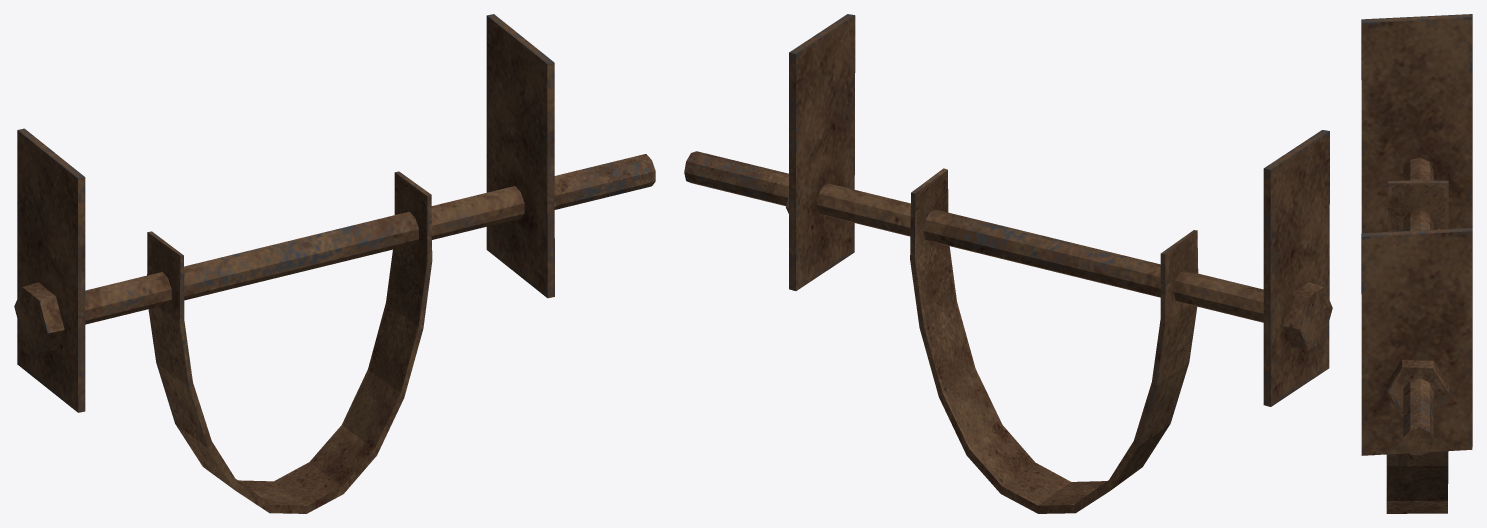
File: ZhuangZhongUp.fbx
The picture shows the model from 3 angles, left to right: view 1: azimuth 30°, elevation 25°; view 2: azimuth 150°, elevation 25°; view 3: azimuth 270°, elevation 25°; orthographic projection. The views are drawn at different scales.
Parts seen in each view (by area): view 1: 3D_ZhuangZhongUp.mo; view 2: 3D_ZhuangZhongUp.mo; view 3: 3D_ZhuangZhongUp.mo.
Boxes of the visible parts, <box> form: 3D_ZhuangZhongUp.mo: <box>14,14,655,513</box>; 3D_ZhuangZhongUp.mo: <box>684,14,1332,513</box>; 3D_ZhuangZhongUp.mo: <box>1361,14,1472,513</box>.
Size of the model in its own units: 78.64 by 49.86 by 13.15.
Materials: 1 (1 with a texture image).
